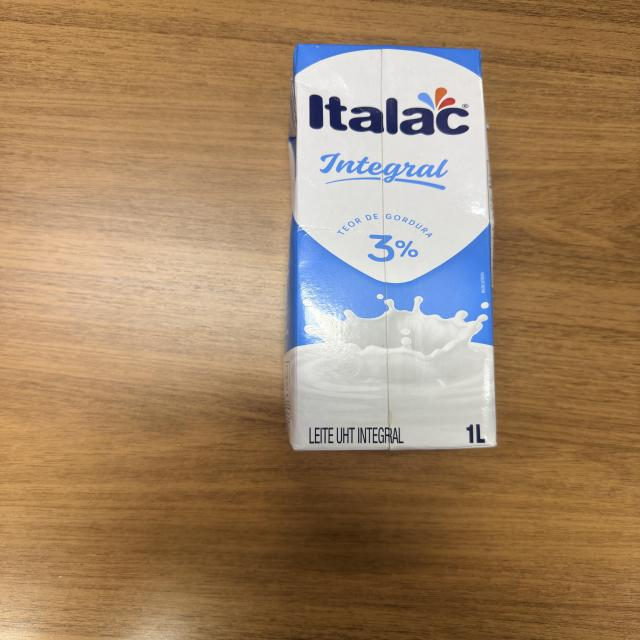Caixa de Leite: (282, 47, 497, 452)
